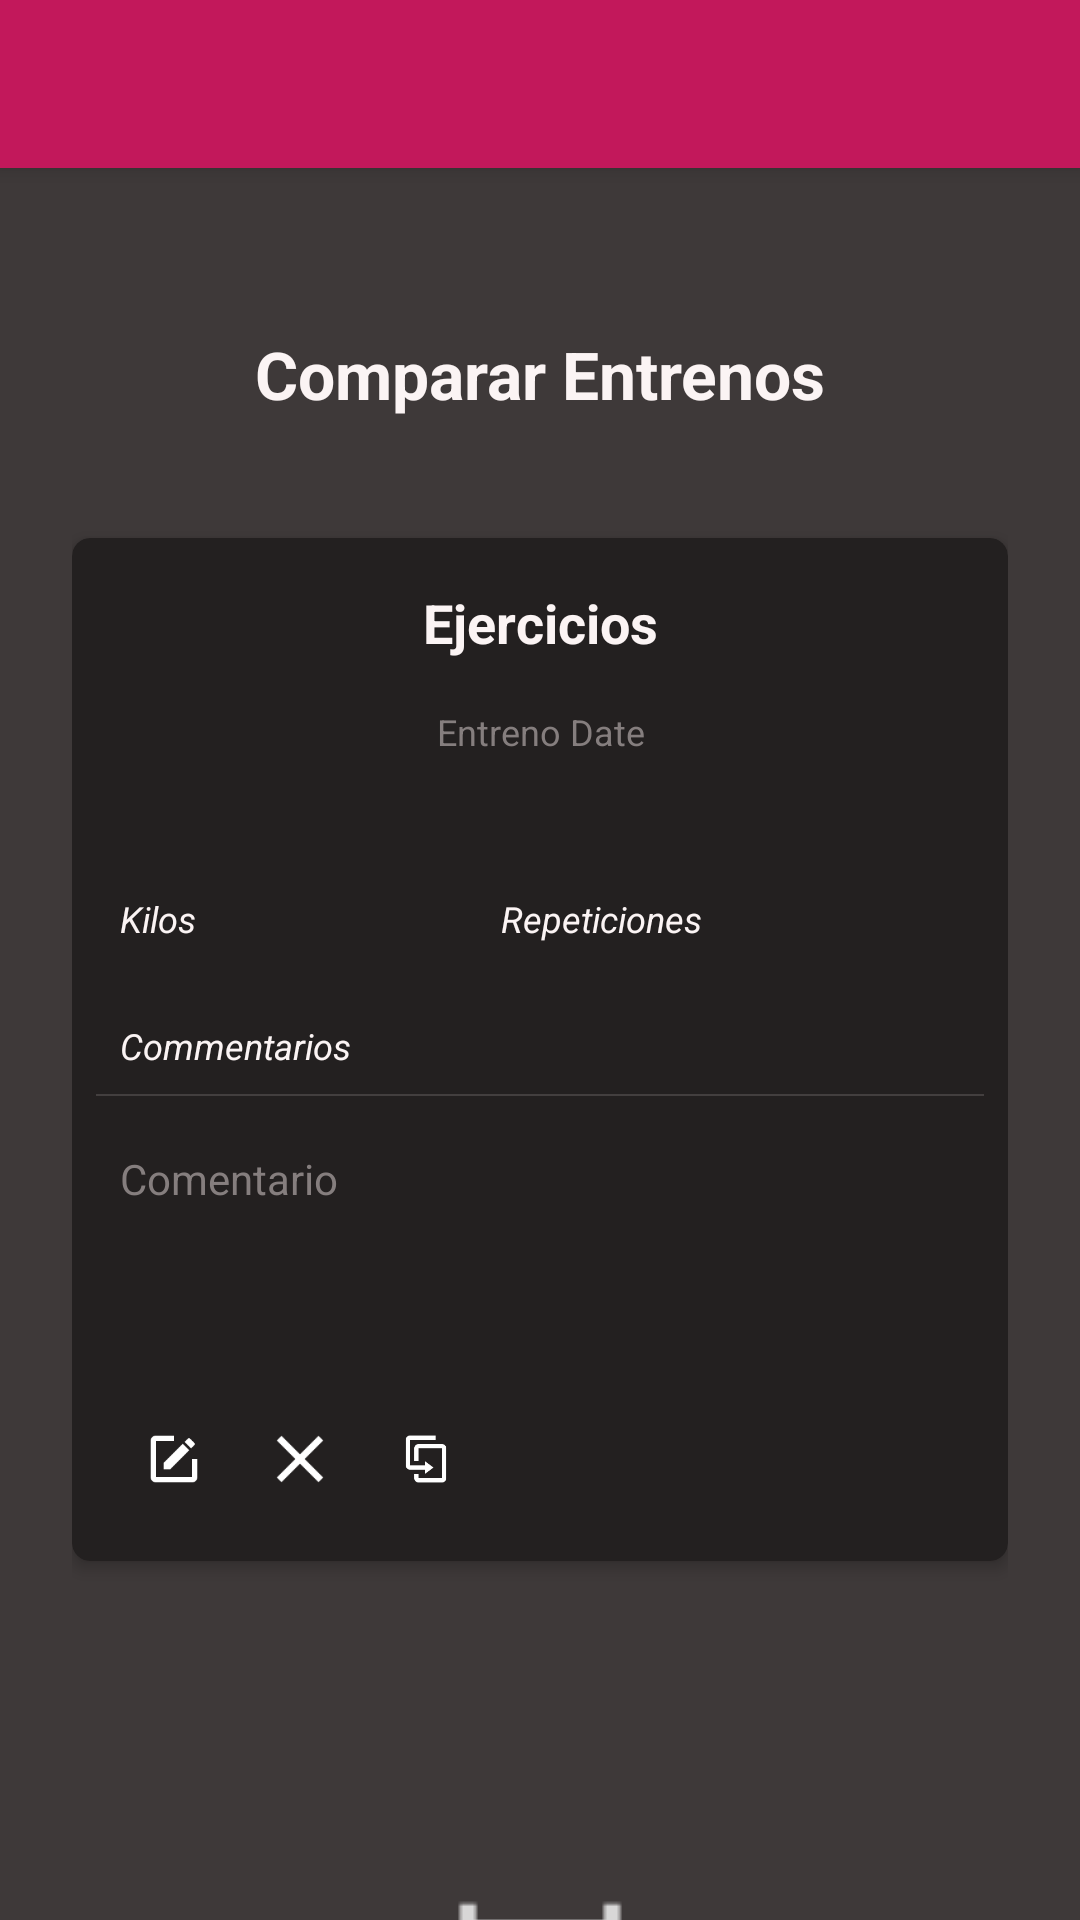

Where icons sit on this 1080px×1920px app screen, as (x1, y1, x2, y2):
delete: (277, 1436, 323, 1482)
edit: (150, 1435, 198, 1483)
